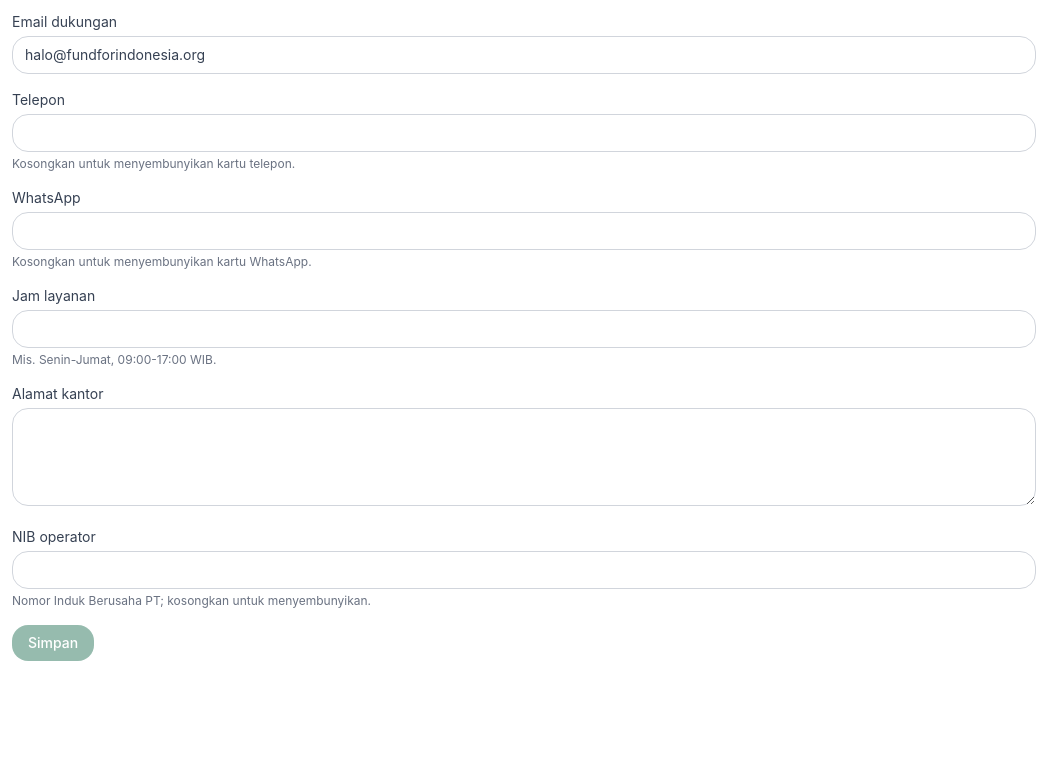
AdminSiteSettingForm › posts the whole section under its own key and refreshes on success
Expected: the button "Simpan" is disabled, [12, 625, 94, 661]
Replace the text in the field labelled "Email dukungan" with "baru@fundforindonesia.id" at (524, 55), box [12, 36, 1036, 74]
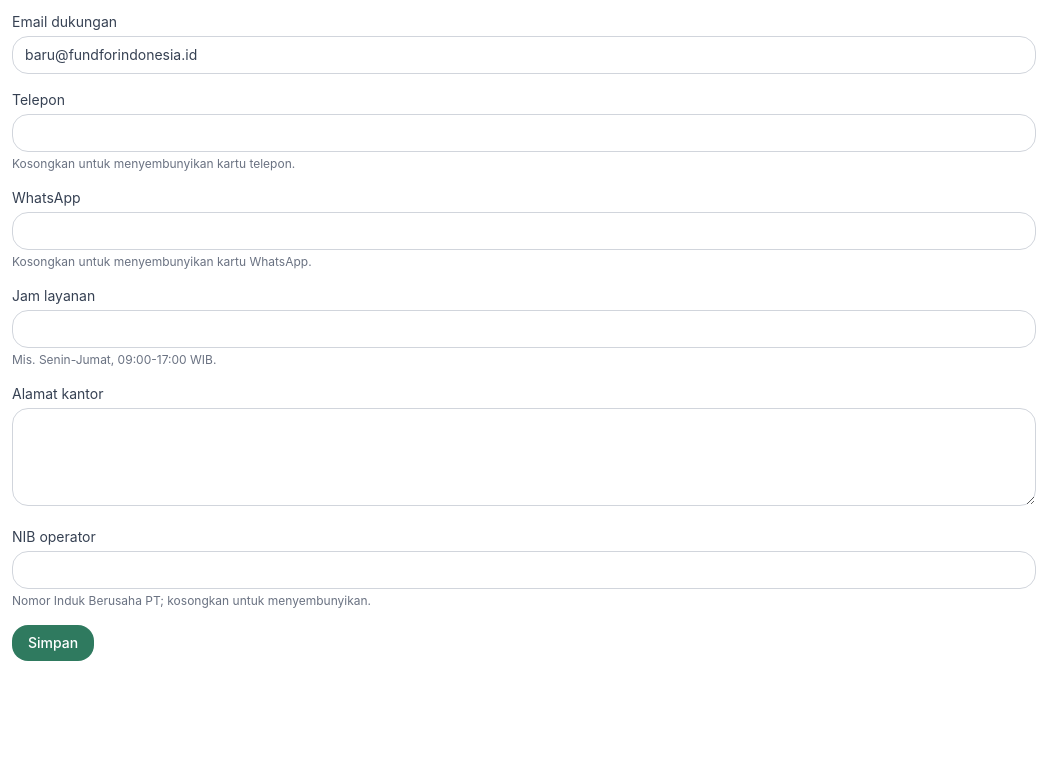
Click the button "Simpan".
click(53, 643)  # box [12, 625, 94, 661]
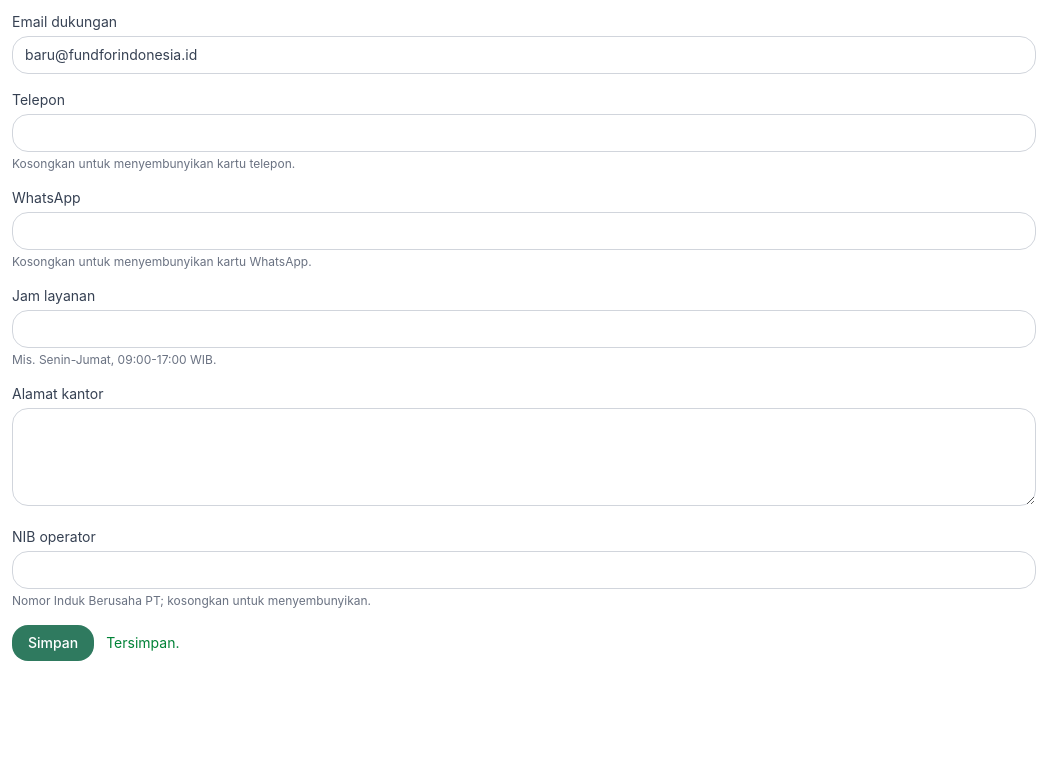
Expected: the message reads "Tersimpan.", [106, 634, 180, 651]
